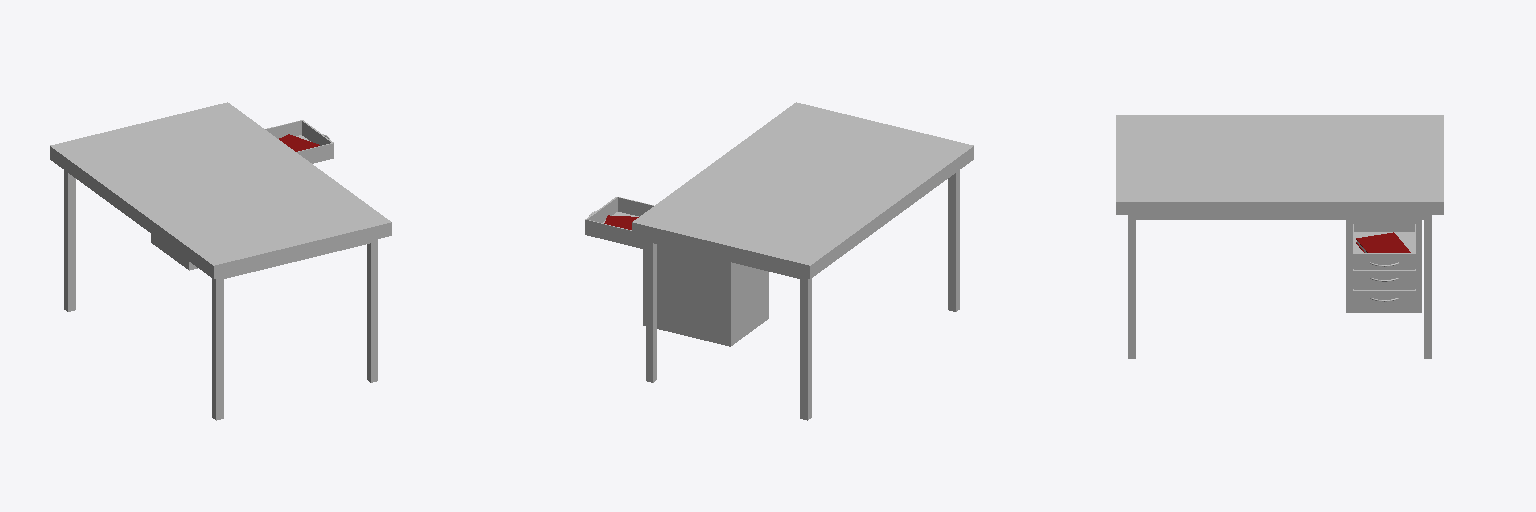
The model's file is desk drawers.obj.
The picture shows the model from 3 angles: view 1: azimuth 30°, elevation 25°; view 2: azimuth 150°, elevation 25°; view 3: azimuth 270°, elevation 25°; orthographic projection.
Visible parts, largest first — view 1: Cube_1, Cube.1_7, Cube.2_4, Cube.4, Cube.1_3; view 2: Cube_1, Drawers, Cube.1_3, Cube.2_4, Cube.1_7, Cube.3_1; view 3: Cube_1, Drawers, Cube.1_3, Cube.2_1, Cube.3_1, Cube.4, Cube.1_1, Cube.1, Cube.1_5.
Boxes of the visible parts, box(x1,y1,x2,y2) form: Cube_1: box(50, 102, 391, 278); Cube.1_7: box(212, 279, 223, 420); Cube.2_4: box(64, 170, 75, 311); Cube.4: box(367, 239, 377, 382); Cube.1_3: box(265, 120, 333, 163); Cube_1: box(632, 102, 973, 278); Drawers: box(643, 239, 768, 346); Cube.1_3: box(585, 197, 653, 248); Cube.2_4: box(800, 279, 811, 420); Cube.1_7: box(948, 170, 959, 311); Cube.3_1: box(646, 242, 656, 382); Cube_1: box(1116, 115, 1443, 214); Drawers: box(1346, 215, 1421, 312); Cube.1_3: box(1353, 224, 1415, 268); Cube.2_1: box(1128, 215, 1431, 219); Cube.3_1: box(1424, 220, 1431, 358); Cube.4: box(1128, 220, 1135, 358); Cube.1_1: box(1353, 289, 1415, 305); Cube.1: box(1353, 269, 1415, 285); Cube.1_5: box(1356, 232, 1410, 252).
Size of the model in its own units: 1068 by 661 by 1220.